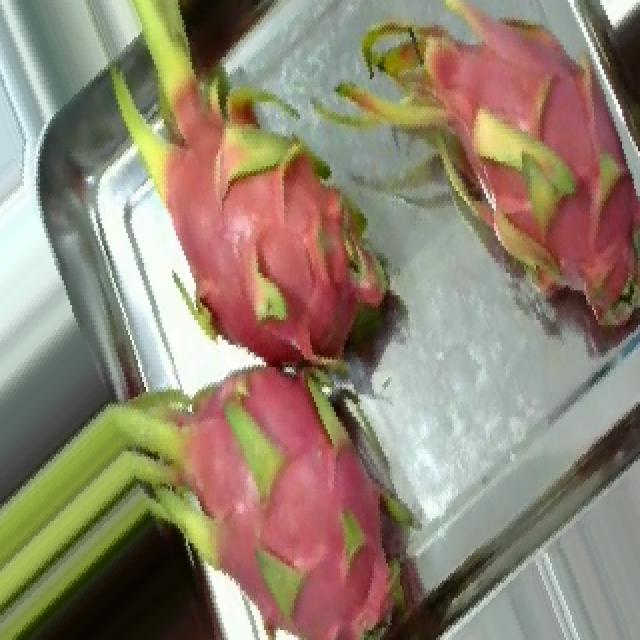Fruit: (162, 0, 310, 84)
